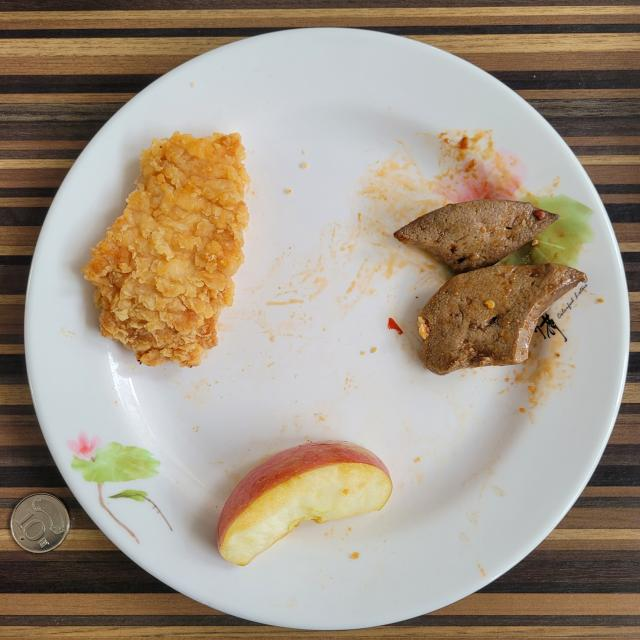apple -sliced-: (218, 441, 392, 565)
coin: (10, 494, 70, 554)
fried chicken cutlet: (82, 131, 250, 366)
pig liver: (394, 200, 588, 375)
